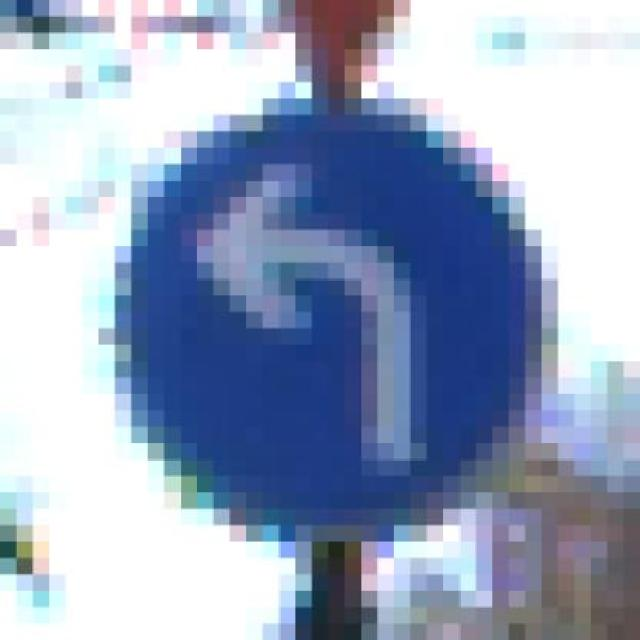Turn left ahead: (82, 99, 575, 542)
